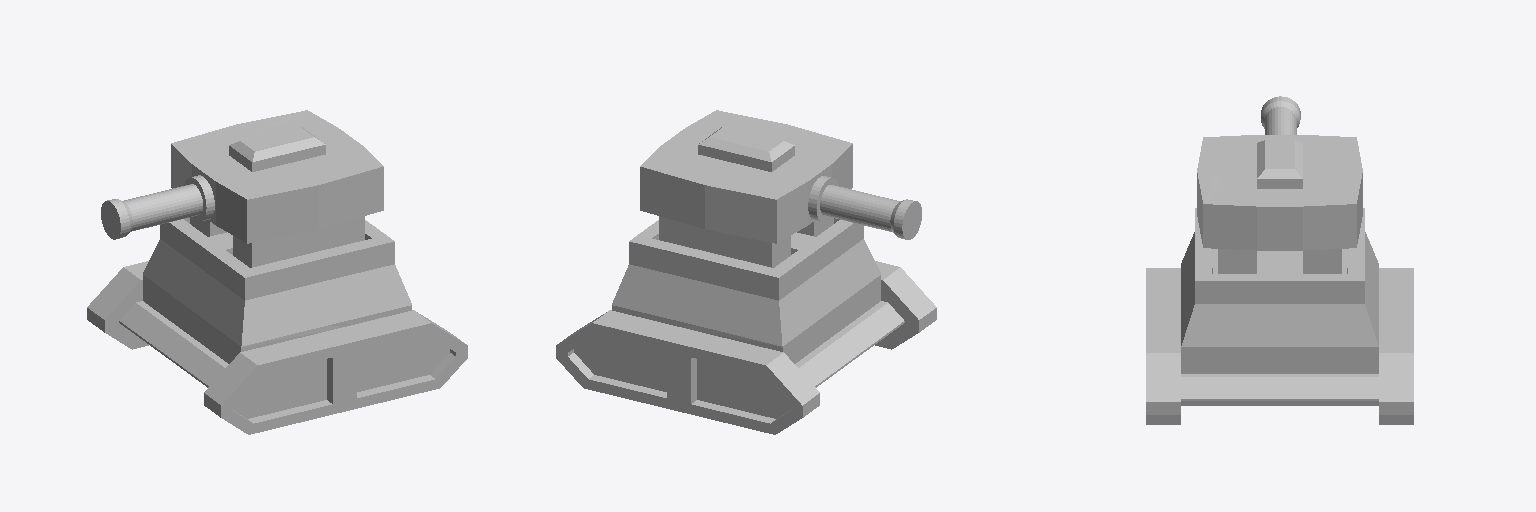
File: Tank.obj
3 renders of one model, left to right at view 1: azimuth 30°, elevation 25°; view 2: azimuth 150°, elevation 25°; view 3: azimuth 270°, elevation 25°, orthographic.
Visible parts, largest first — view 1: Cube.003, Circle.001; view 2: Cube.003, Circle.001; view 3: Cube.003, Circle.001.
Boxes of the visible parts, x1,y1,x2,y2 form: Cube.003: [87, 110, 467, 434]; Circle.001: [101, 175, 214, 239]; Cube.003: [556, 110, 936, 434]; Circle.001: [808, 176, 921, 239]; Cube.003: [1146, 135, 1413, 424]; Circle.001: [1261, 96, 1300, 134].
Size of the model in its own units: 2.69 by 1.99 by 2.17.